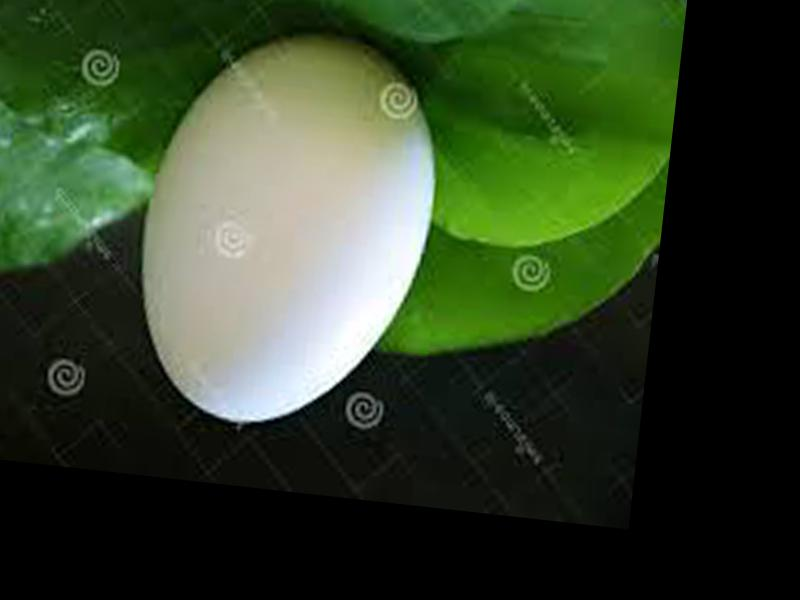Eggs: (123, 19, 450, 441)
